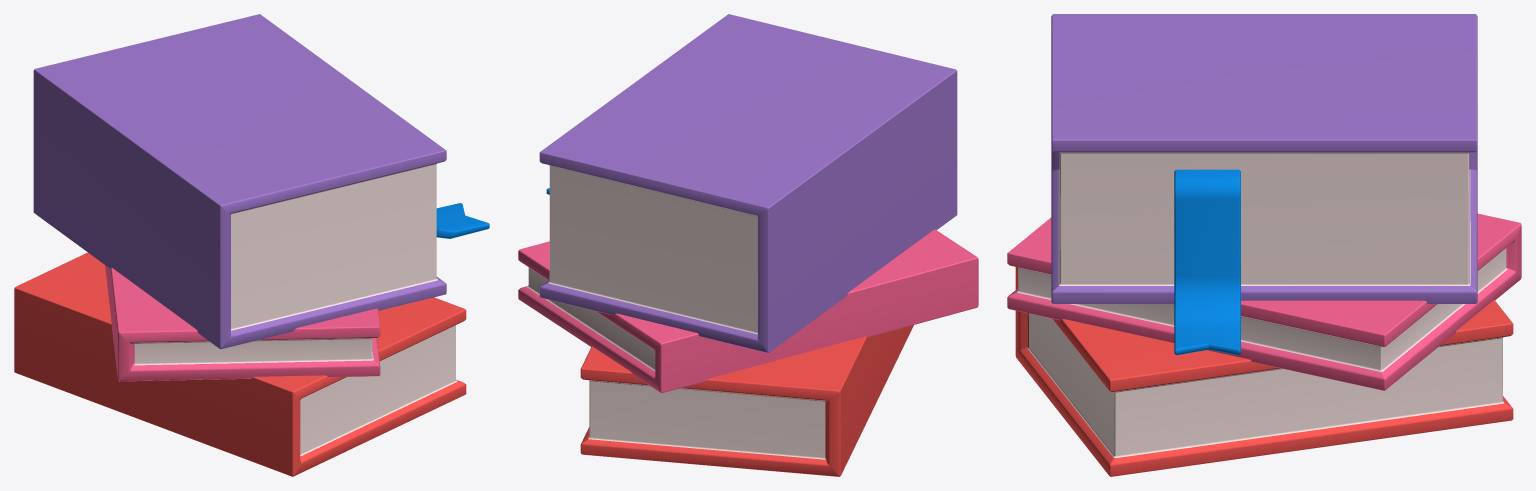
File: Public_2_Books_4.glb
The picture shows the model from 3 angles, left to right: view 1: azimuth 30°, elevation 25°; view 2: azimuth 150°, elevation 25°; view 3: azimuth 270°, elevation 25°; orthographic projection. The views are drawn at different scales.
Parts seen in each view (by area): view 1: Public_2_Books_4; view 2: Public_2_Books_4; view 3: Public_2_Books_4.
Part boxes in pixels (x1=…): Public_2_Books_4: x1=14, y1=14, x2=489, y2=476; Public_2_Books_4: x1=518, y1=14, x2=978, y2=476; Public_2_Books_4: x1=1007, y1=14, x2=1521, y2=476.
Bounding box in the file's own units: 2.72 × 1.85 × 2.76.
1 material, 1 textured.
